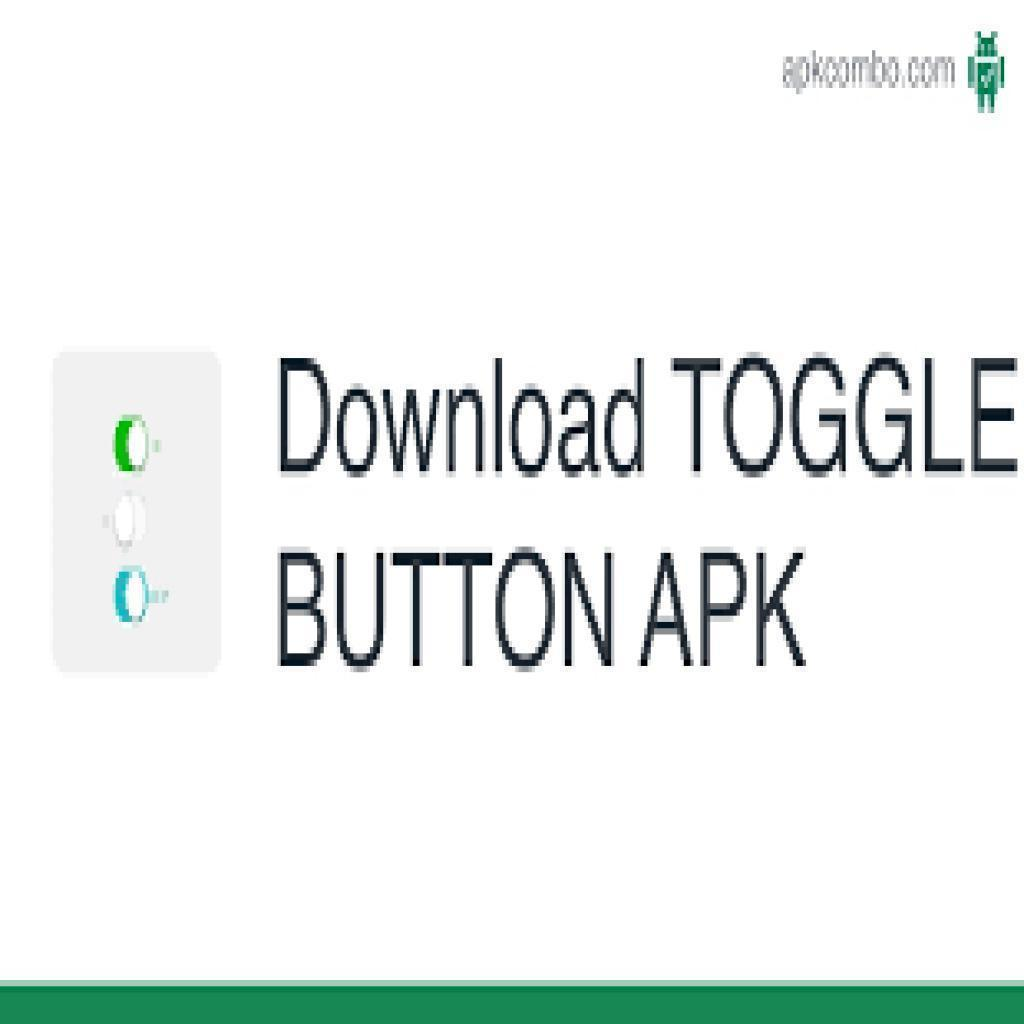switch: (107, 564, 152, 630), (109, 410, 153, 475), (111, 489, 148, 551)
